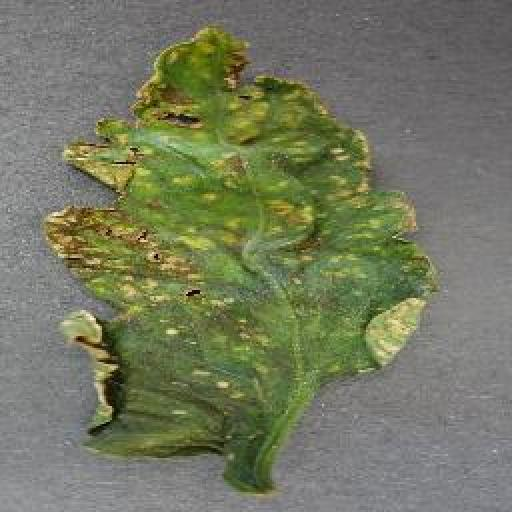Bacterial Spot: (35, 19, 438, 480)
